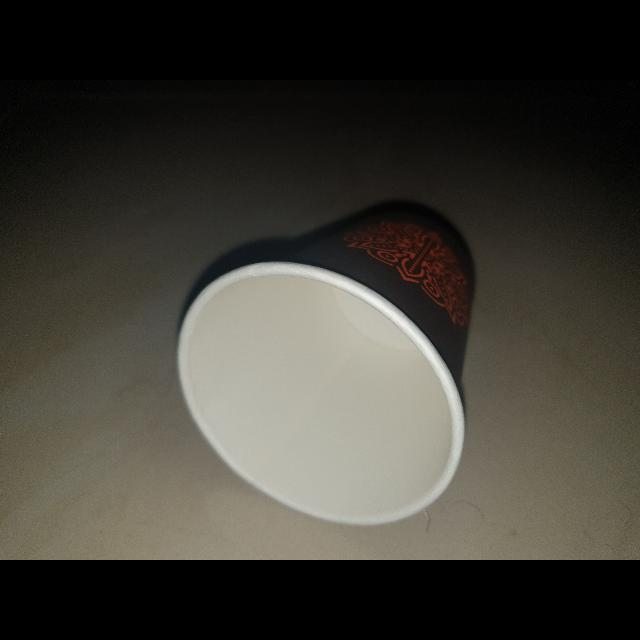trash: (174, 208, 478, 530)
